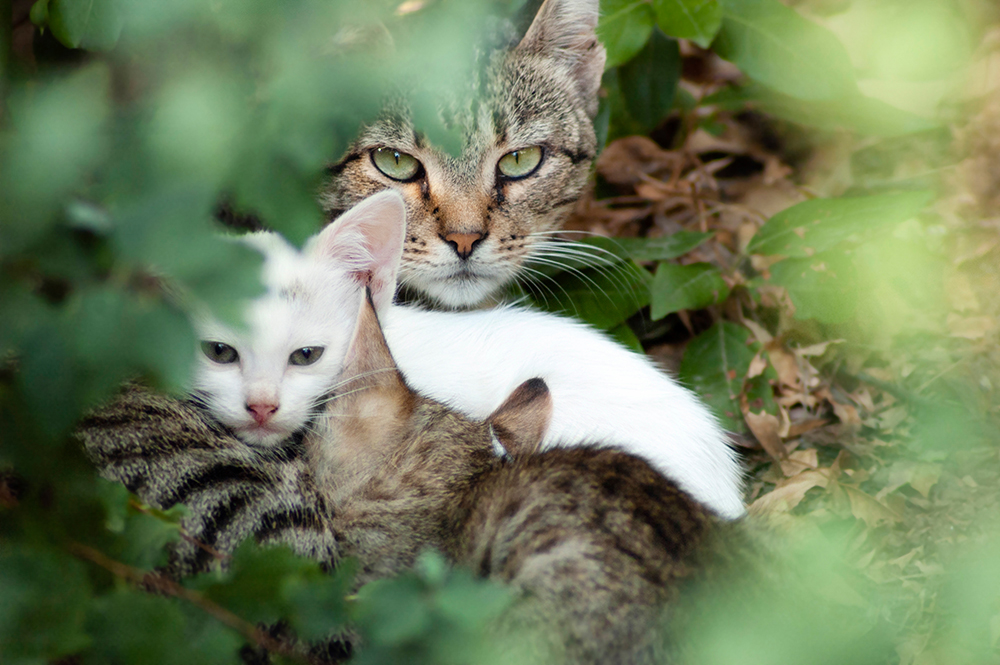Cat: (307, 1, 624, 317)
